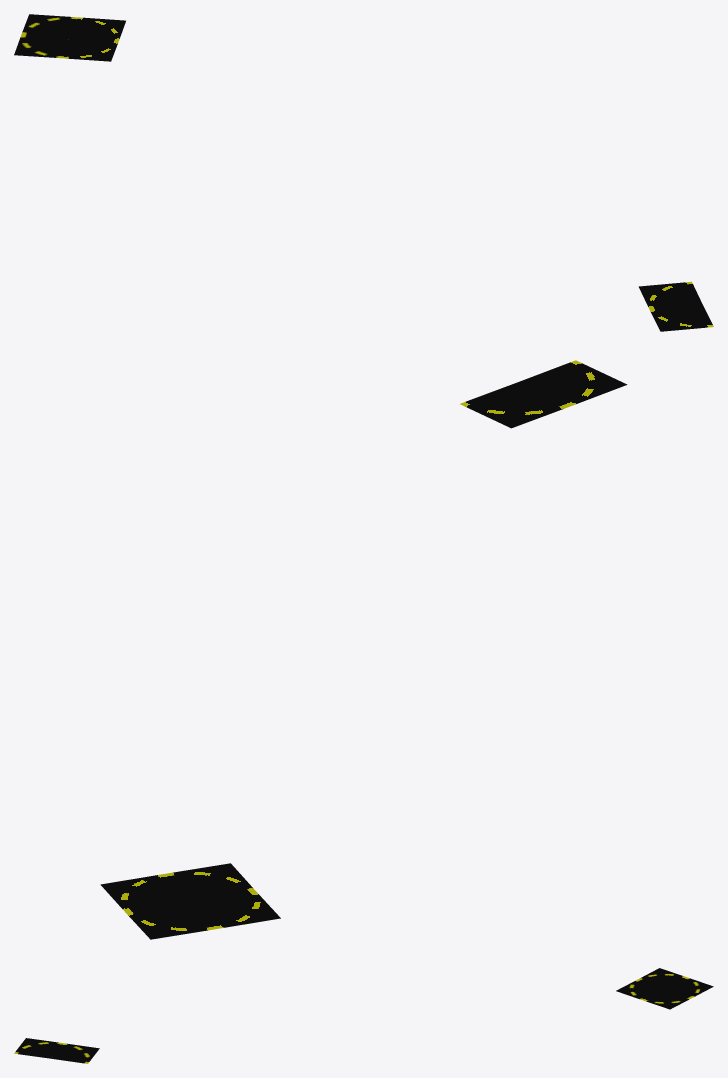
Rendered from Dam_Alpha_72.glb.
3 views of the same model, one above another, from view 1: azimuth 30°, elevation 25°; view 2: azimuth 150°, elevation 25°; view 3: azimuth 270°, elevation 25° (orthographic). The views are drawn at different scales.
Visible parts, largest first — view 1: Dam_Alpha_72; view 2: Dam_Alpha_72; view 3: Dam_Alpha_72.
Boxes of the visible parts, box(x1,y1,x2,y2) form: Dam_Alpha_72: box(14, 14, 713, 331); Dam_Alpha_72: box(100, 360, 627, 939); Dam_Alpha_72: box(14, 968, 713, 1063).
Size of the model in its own units: 73 by 5.02e-14 by 225.
Materials: 1 (1 with a texture image).
